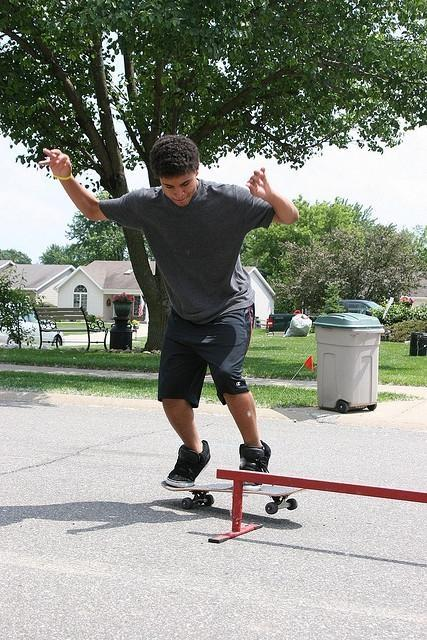car: (20, 309, 64, 349), (267, 314, 293, 334), (341, 300, 384, 312)
